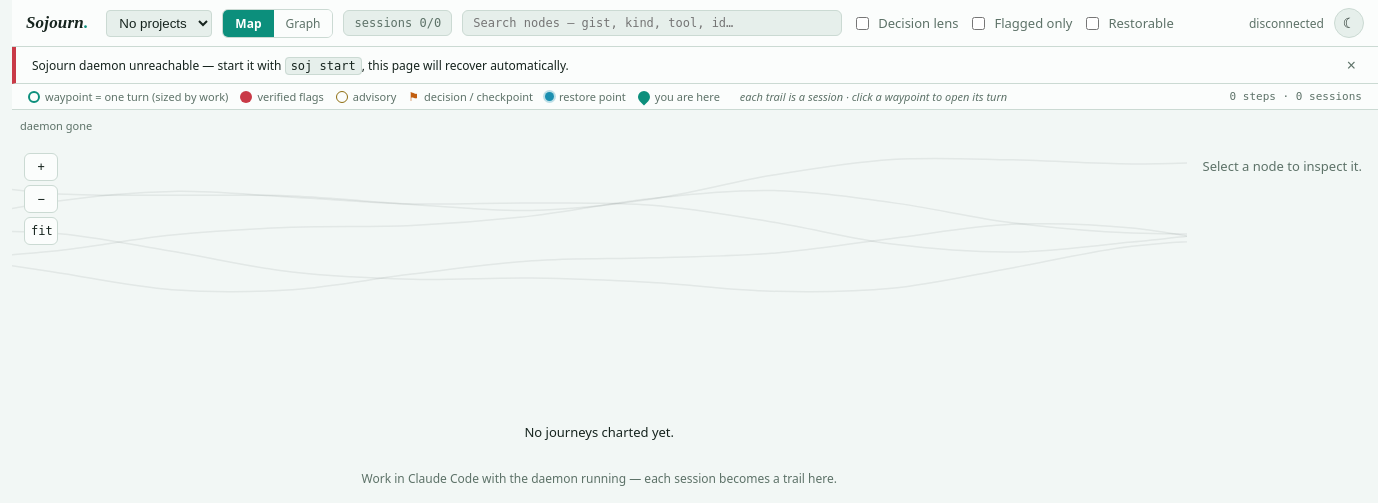
Scenario: App / daemon-down banner › is dismissible
The width and height of the screenshot is (1378, 503).
Expected: the message with test id "daemon-banner" is shown, top-left (12, 47), bottom-right (1377, 84)
Click the button named "dismiss" at (1351, 65), box top-left (1341, 55), bottom-right (1362, 75)
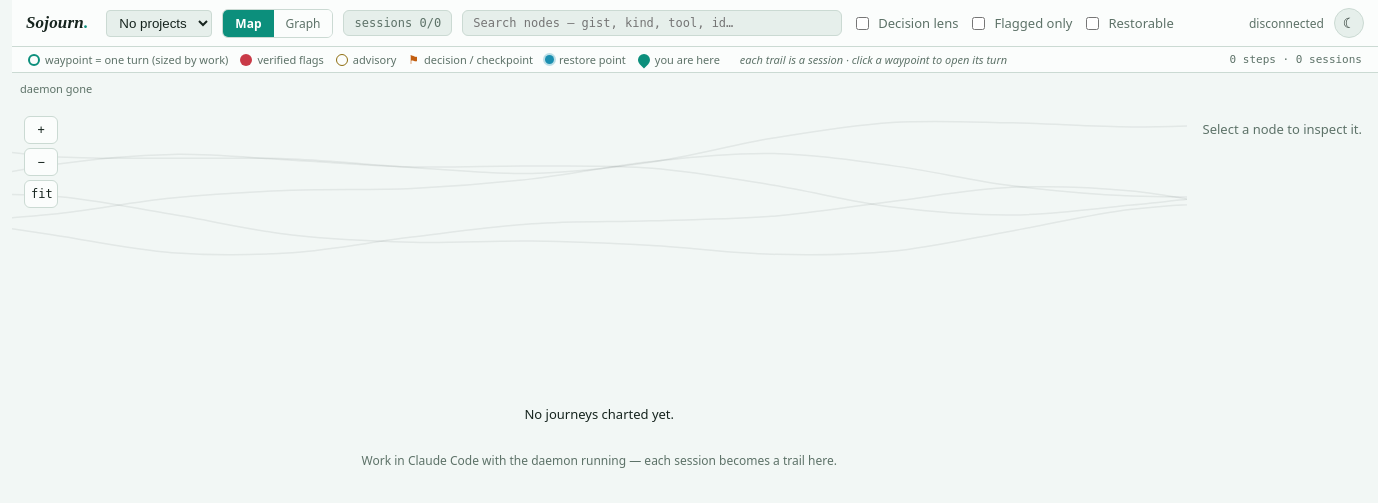
Expected: the message with test id "daemon-banner" is gone
